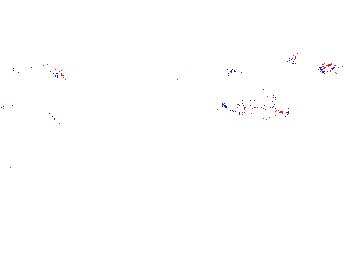glassfish: (2, 85, 61, 135), (218, 95, 293, 125)
red belly glassfish: (317, 57, 343, 78)
redtail glassfish: (225, 65, 287, 104), (6, 58, 74, 86), (254, 53, 302, 78)
